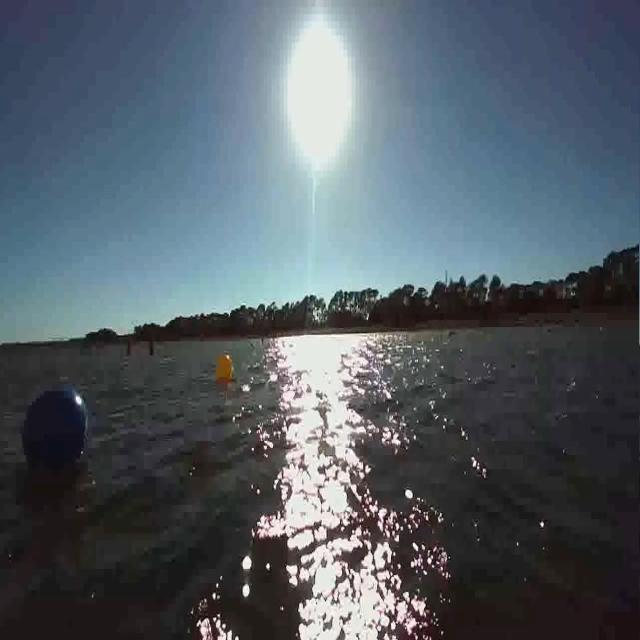blue-buoy: (20, 380, 91, 476)
yellow-buoy: (215, 351, 234, 384)
